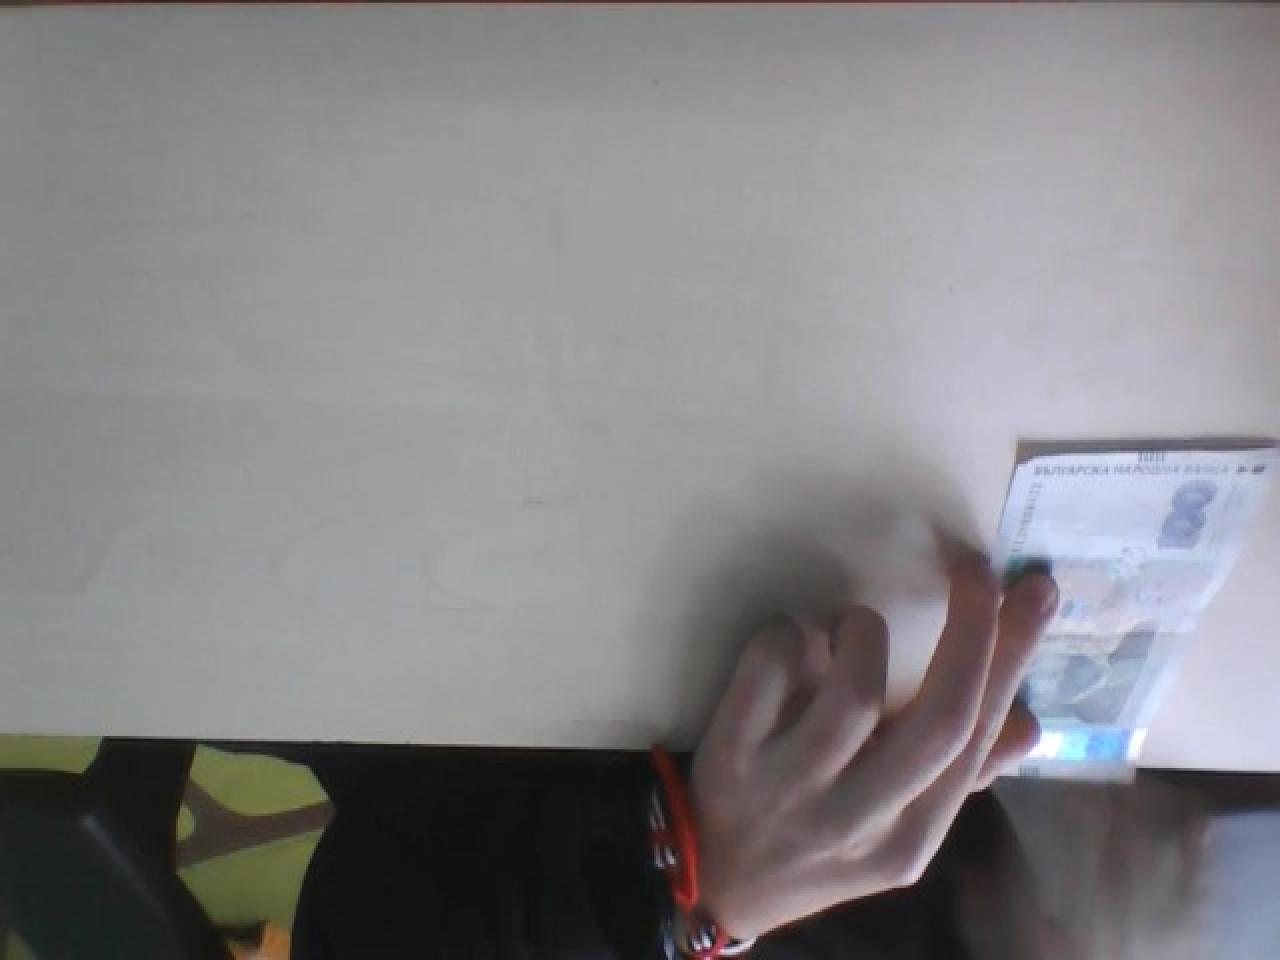100leva: (994, 443, 1274, 787)
